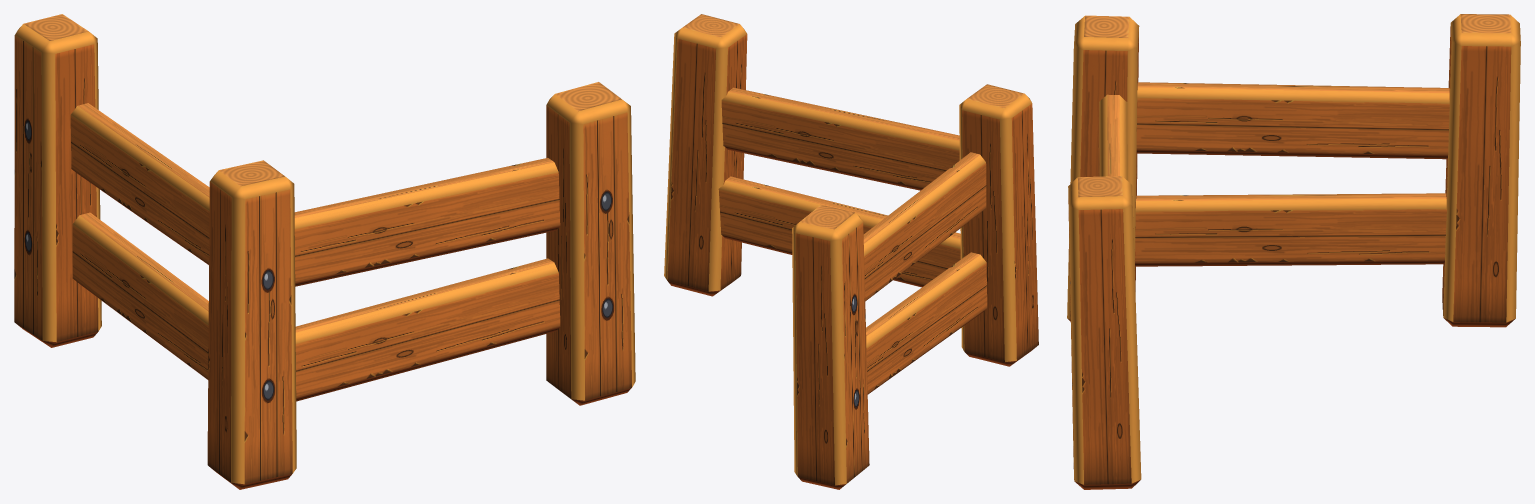
File: Fence_Corner.fbx
3 renders of one model, left to right at view 1: azimuth 30°, elevation 25°; view 2: azimuth 150°, elevation 25°; view 3: azimuth 270°, elevation 25°, orthographic. The views are drawn at different scales.
Visible parts, largest first — view 1: Fence_Corner_Body; view 2: Fence_Corner_Body; view 3: Fence_Corner_Body.
Part boxes in pixels (x1,y1,x2,y2): Fence_Corner_Body: [14, 14, 635, 489]; Fence_Corner_Body: [664, 14, 1038, 489]; Fence_Corner_Body: [1067, 14, 1520, 489].
Bounding box in the file's own units: 1.63 × 1.16 × 1.62.
Materials: 1 (1 with a texture image).
